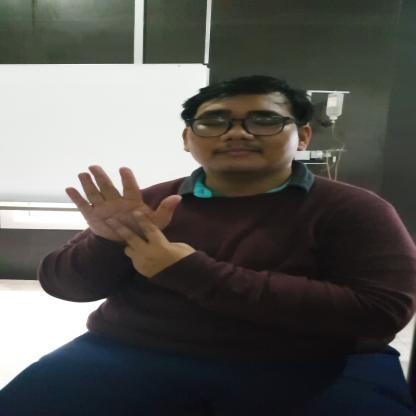N: (60, 160, 190, 274)
